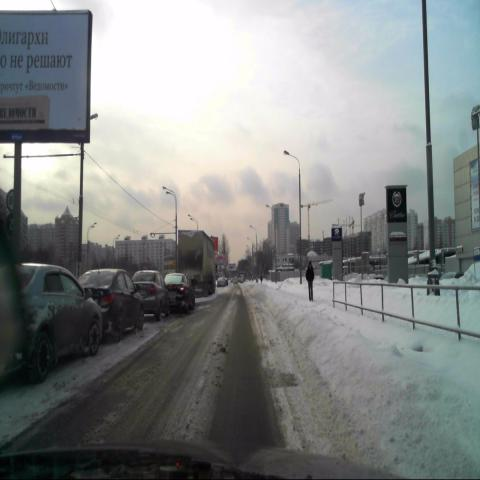3_30: (6, 216, 18, 237)
